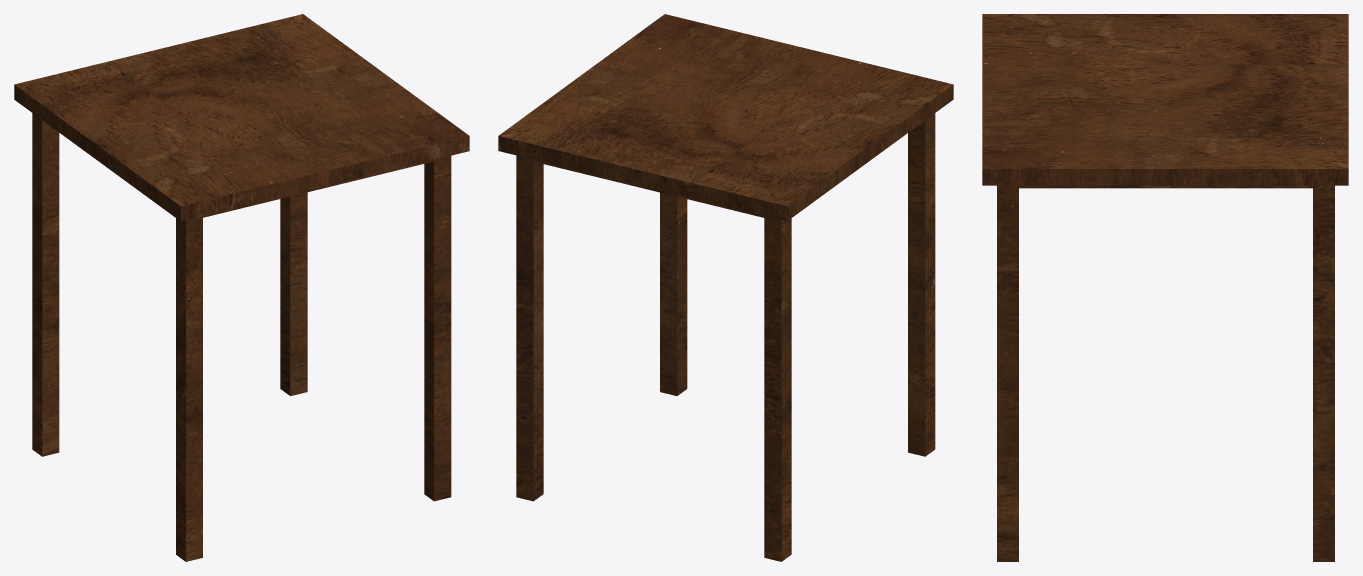
The model's file is Table.fbx.
3 renders of one model, left to right at view 1: azimuth 30°, elevation 25°; view 2: azimuth 150°, elevation 25°; view 3: azimuth 270°, elevation 25°, orthographic. The views are drawn at different scales.
Parts seen in each view (by area): view 1: masa.006; view 2: masa.006; view 3: masa.006.
Part boxes in pixels (x1,y1,x2,y2): masa.006: [14, 14, 469, 561]; masa.006: [498, 14, 953, 561]; masa.006: [982, 14, 1348, 561].
Size of the model in its own units: 499 by 599 by 498.
Materials: 1 (1 with a texture image).
